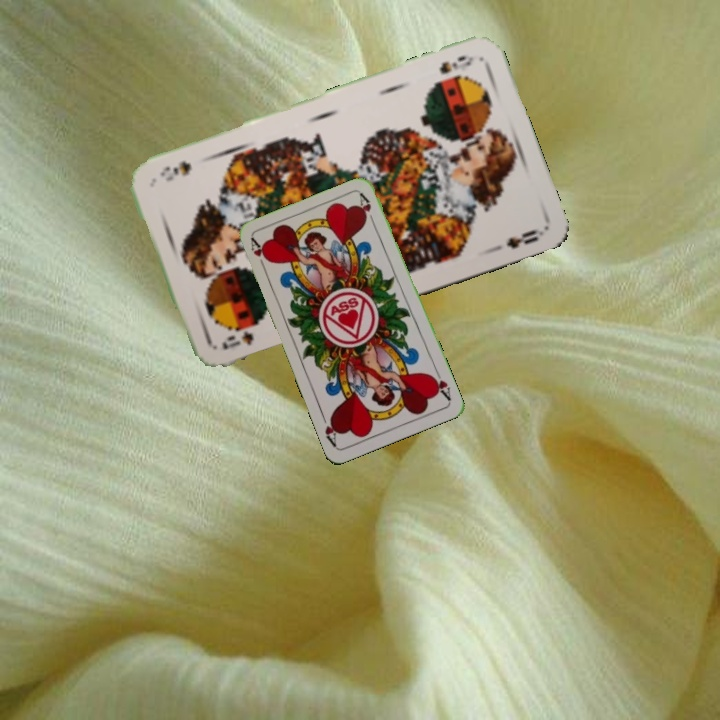HA: (246, 234, 272, 274), (427, 365, 454, 403)
SO: (435, 51, 476, 77), (218, 327, 256, 352)
